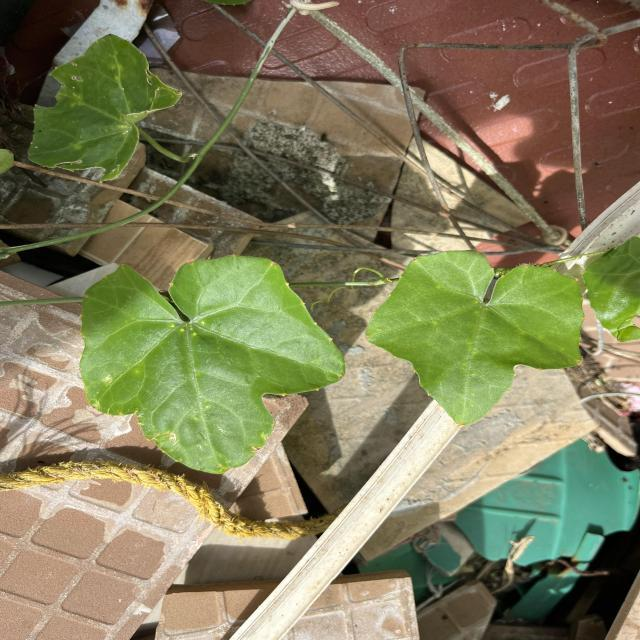Coccinia grandis: (77, 254, 349, 476), (364, 246, 586, 428)
